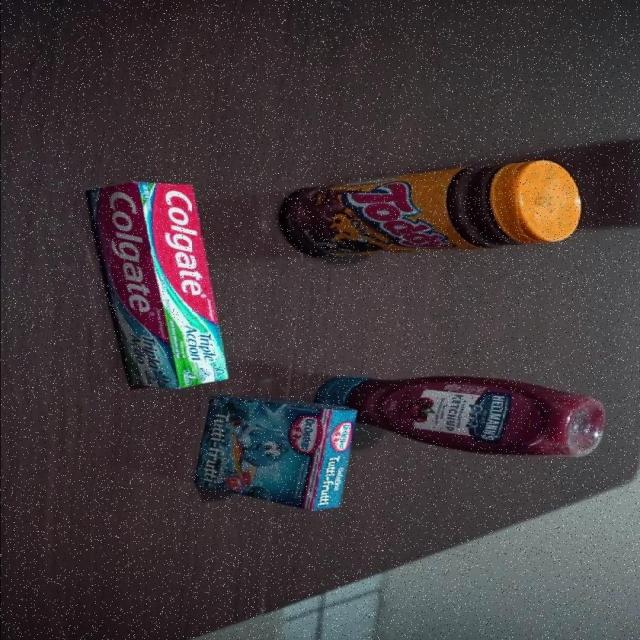ChocolatePowder: (280, 158, 584, 259)
Gelatine: (190, 394, 360, 512)
Ketchup: (310, 373, 610, 460)
Toothpaste: (82, 179, 230, 391)
